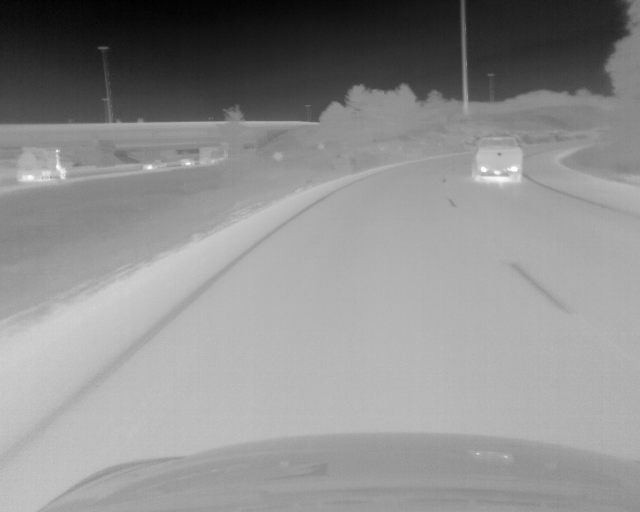car: (471, 137, 524, 182), (16, 145, 67, 182), (142, 159, 166, 170), (181, 158, 195, 166)
